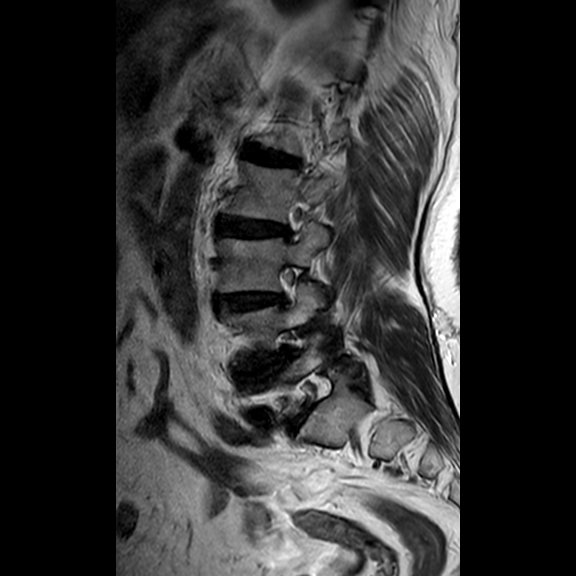LFS0: (263, 257, 313, 317)
